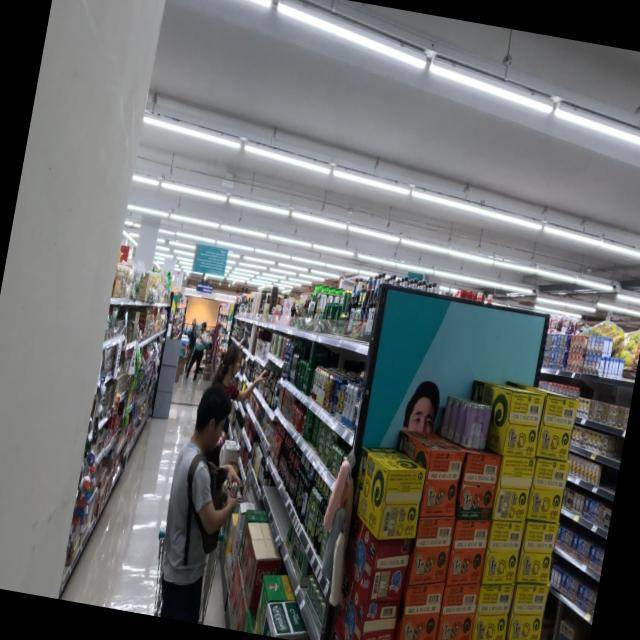shoplifting: (152, 379, 258, 619)
